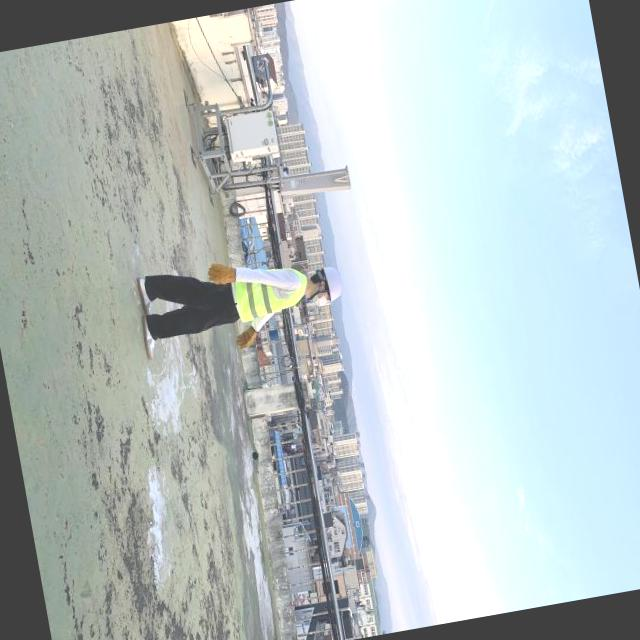gloves: (196, 247, 243, 302), (219, 322, 260, 365)
helmet: (316, 259, 351, 306)
no-boots: (132, 274, 160, 320), (138, 316, 164, 362)
vest: (222, 254, 312, 320)
